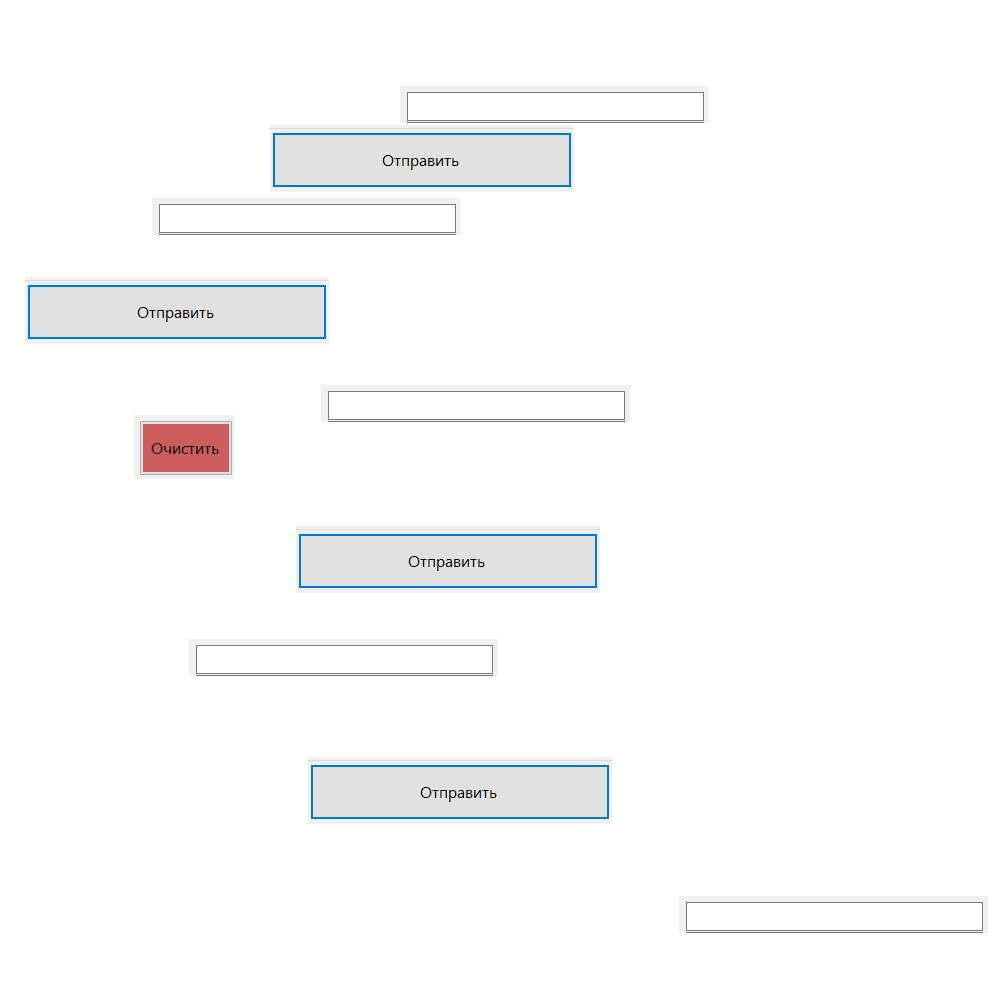Button: (25, 277, 329, 344), (270, 125, 574, 192), (308, 757, 612, 824), (296, 526, 600, 593), (134, 415, 234, 479)
EditText-: (400, 86, 709, 123), (321, 385, 630, 422), (152, 198, 461, 235), (189, 639, 498, 676), (679, 896, 988, 933)
